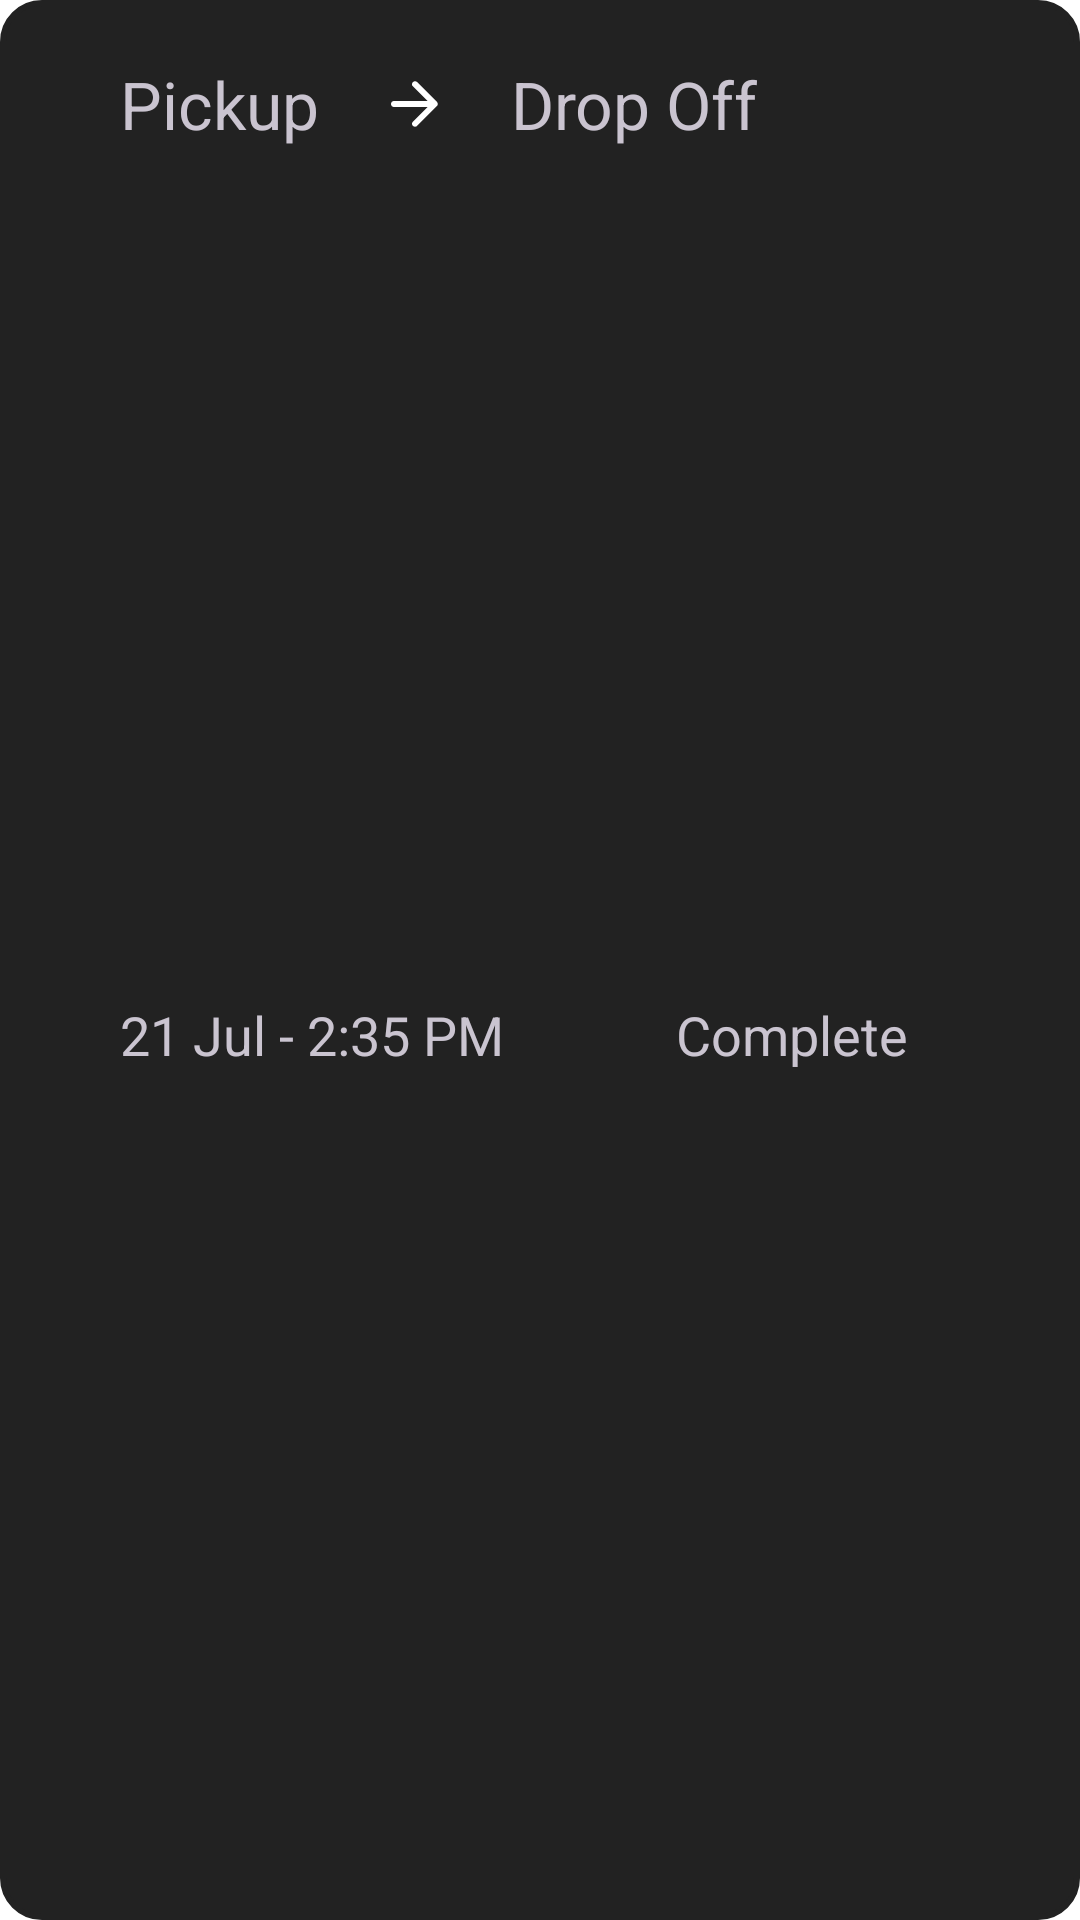

Icon bounding boxes for this 1080x1920 phone screenshot, format [x1, y1, x2, y2]:
arrow: [391, 81, 438, 127]
